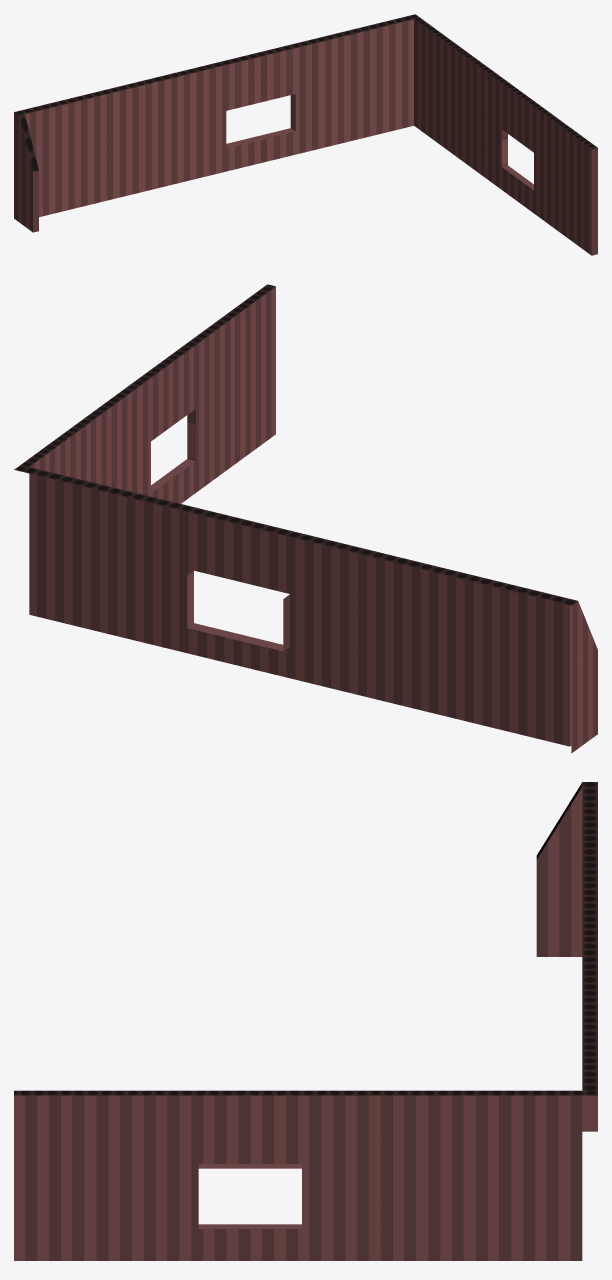
Rendered from wall_Big_room.fbx.
3 views of the same model, one above another, from view 1: azimuth 30°, elevation 25°; view 2: azimuth 150°, elevation 25°; view 3: azimuth 270°, elevation 25° (orthographic). The views are drawn at different scales.
Parts seen in each view (by area): view 1: Cube; view 2: Cube; view 3: Cube.
Part boxes in pixels (x1,y1,x2,y2): Cube: [14, 14, 597, 255]; Cube: [14, 284, 597, 753]; Cube: [14, 782, 597, 1260].
Size of the model in its own units: 1421 by 360 by 1119.
